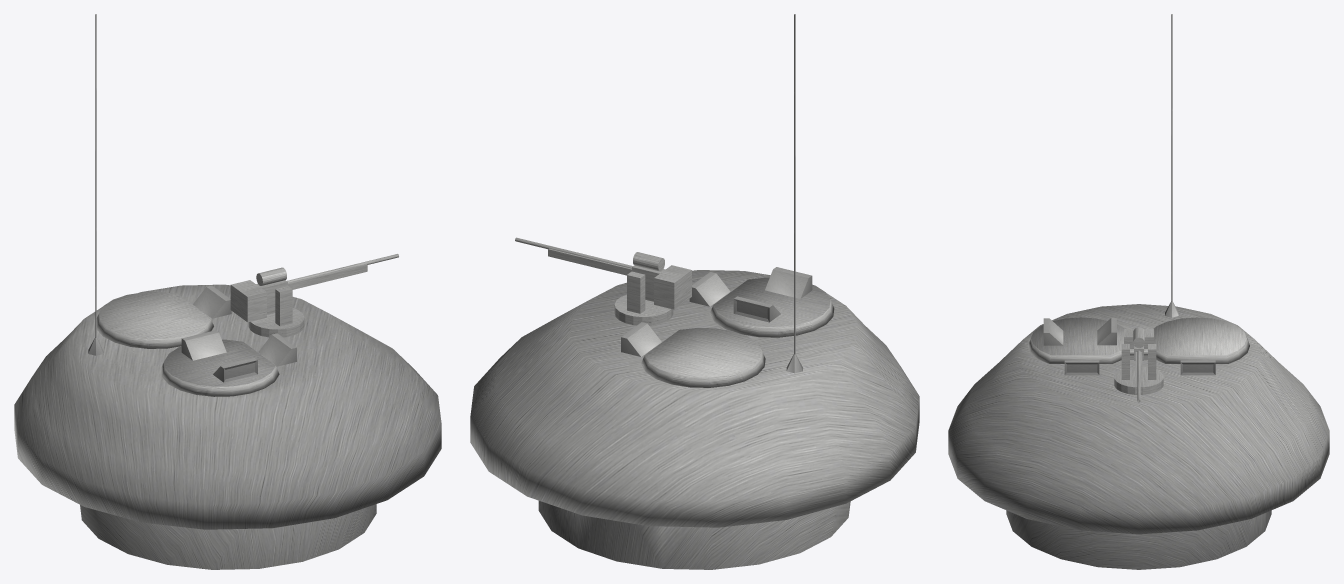
Rendered from T_302turret.fbx.
3 renders of one model, left to right at view 1: azimuth 30°, elevation 25°; view 2: azimuth 150°, elevation 25°; view 3: azimuth 270°, elevation 25°, orthographic. The views are drawn at different scales.
Parts seen in each view (by area): view 1: Plane, door2, mountedgun, door, tidbit3, tidbit2, tidbit, None__null_, tidbit4; view 2: Plane, door2, mountedgun, door, tidbit4, tidbit, tidbit2, None__null_, tidbit3; view 3: Plane, door2, door, mountedgun, None__null_, tidbit, tidbit2, tidbit4.
Boxes of the visible parts, <box> form: Plane: <box>14,284,441,569</box>; door2: <box>96,292,213,348</box>; mountedgun: <box>230,254,398,337</box>; door: <box>160,339,279,396</box>; tidbit3: <box>181,330,226,360</box>; tidbit2: <box>258,333,296,366</box>; tidbit: <box>193,285,231,318</box>; None__null_: <box>88,14,103,355</box>; tidbit4: <box>213,358,257,382</box>; Plane: <box>470,270,919,569</box>; door2: <box>640,328,765,387</box>; mountedgun: <box>515,237,691,325</box>; door: <box>709,277,834,337</box>; tidbit4: <box>765,267,812,298</box>; tidbit: <box>621,322,661,356</box>; tidbit2: <box>689,272,730,306</box>; None__null_: <box>786,14,802,373</box>; tidbit3: <box>733,296,780,322</box>; Plane: <box>948,304,1329,569</box>; door2: <box>1153,317,1249,363</box>; door: <box>1028,317,1124,363</box>; mountedgun: <box>1114,327,1163,402</box>; None__null_: <box>1165,14,1178,317</box>; tidbit: <box>1180,360,1215,375</box>; tidbit2: <box>1064,360,1099,375</box>; tidbit4: <box>1043,318,1063,345</box>.
Bounding box in the file's own units: 2.3 × 2.99 × 2.3.
Materials: 4 (4 with a texture image).
